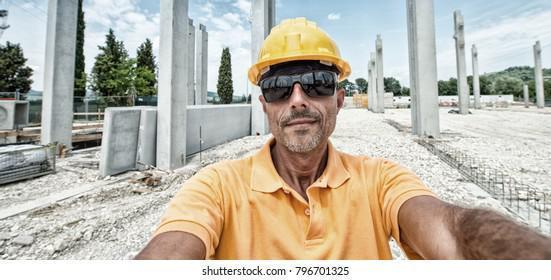helmet: (247, 17, 352, 84)
